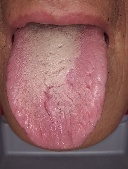tongue: (5, 34, 109, 152)
